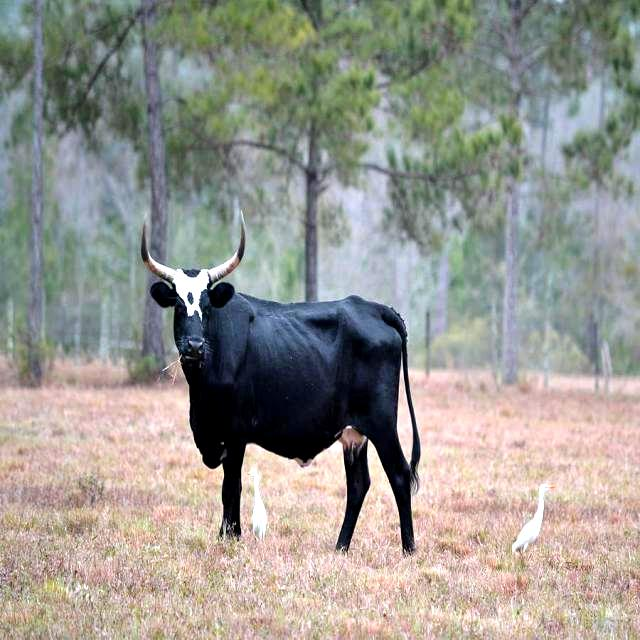COW: (143, 231, 420, 552)
